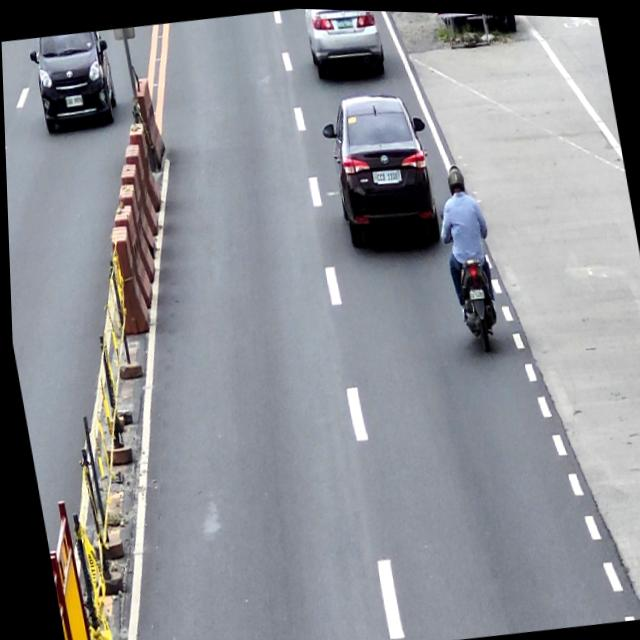Car: (316, 82, 445, 254), (302, 7, 388, 82)
License-Plate: (374, 168, 399, 185), (465, 283, 484, 298), (336, 15, 354, 28)
Motorcycle: (438, 201, 504, 351)
